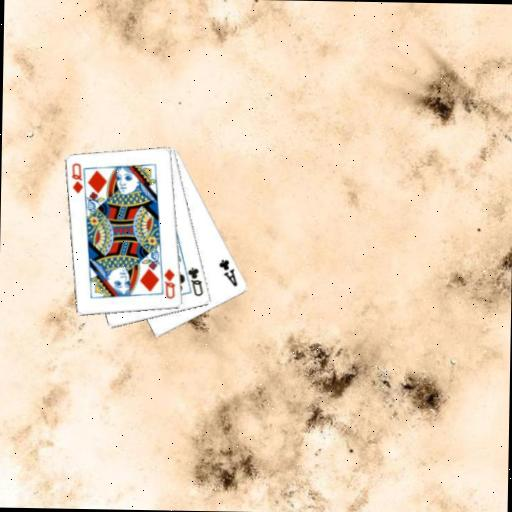AC: (216, 256, 240, 288)
QC: (184, 264, 205, 298)
QD: (69, 161, 85, 196), (161, 266, 177, 300)
